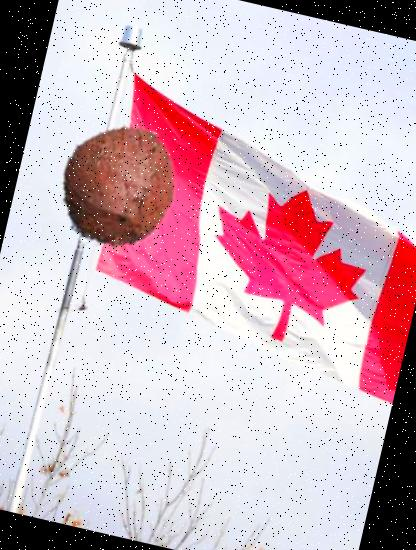Cocos: (36, 108, 198, 269)
